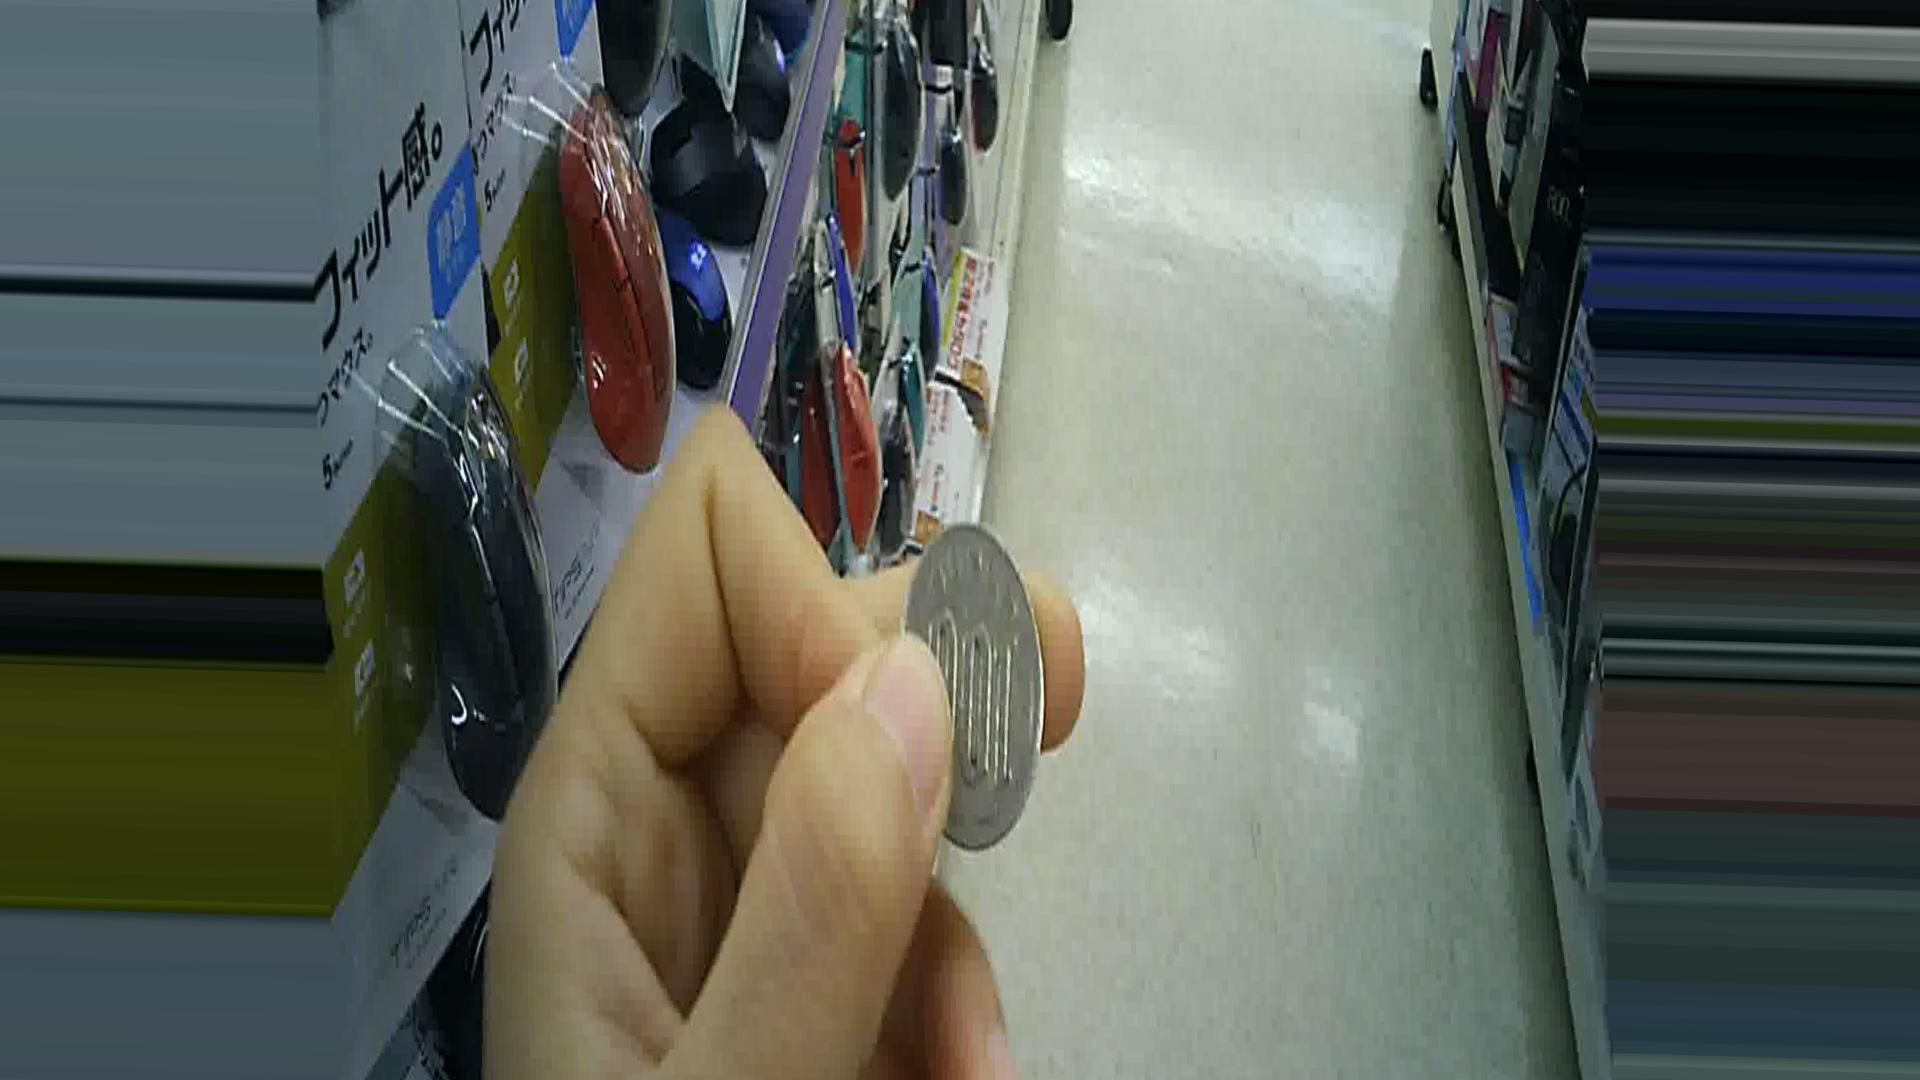100 Yen: (893, 502, 1076, 860)
